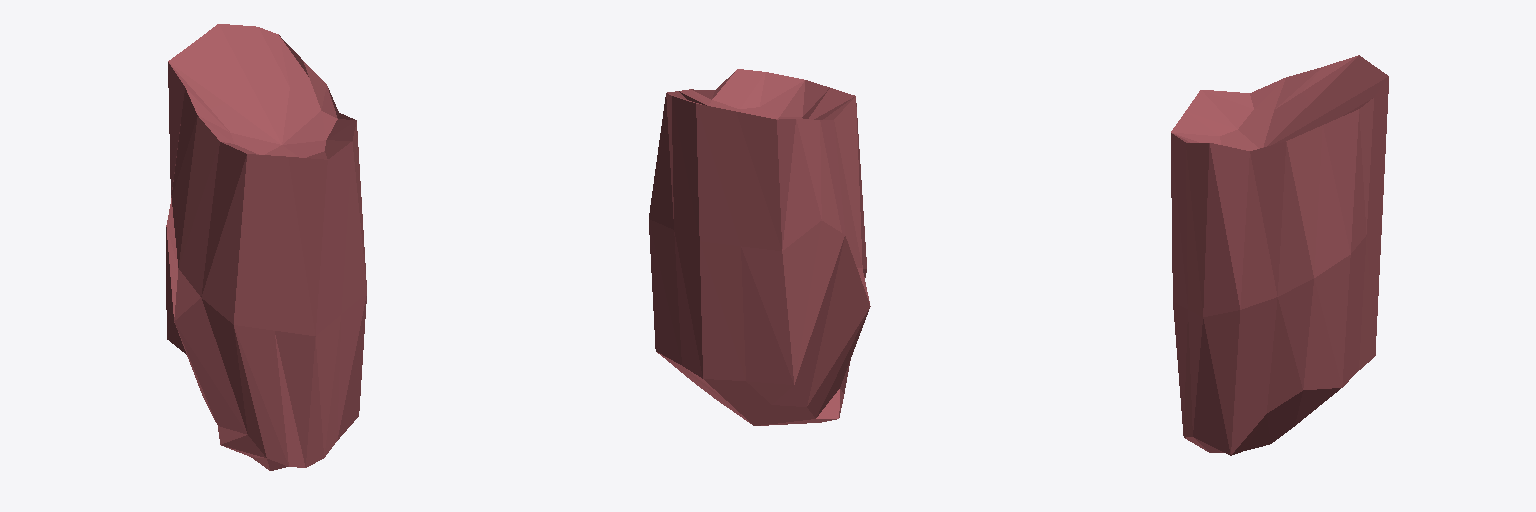
Rendered from UpperDress.obj.
The picture shows the model from 3 angles: view 1: azimuth 30°, elevation 25°; view 2: azimuth 150°, elevation 25°; view 3: azimuth 270°, elevation 25°; orthographic projection.
Visible parts, largest first — view 1: Cylinder; view 2: Cylinder; view 3: Cylinder.
Part boxes in pixels (bbox=[...]): Cylinder: bbox=[166, 24, 366, 470]; Cylinder: bbox=[649, 69, 870, 425]; Cylinder: bbox=[1171, 55, 1388, 455].
Bounding box in the file's own units: 1.88 × 3.66 × 1.93.